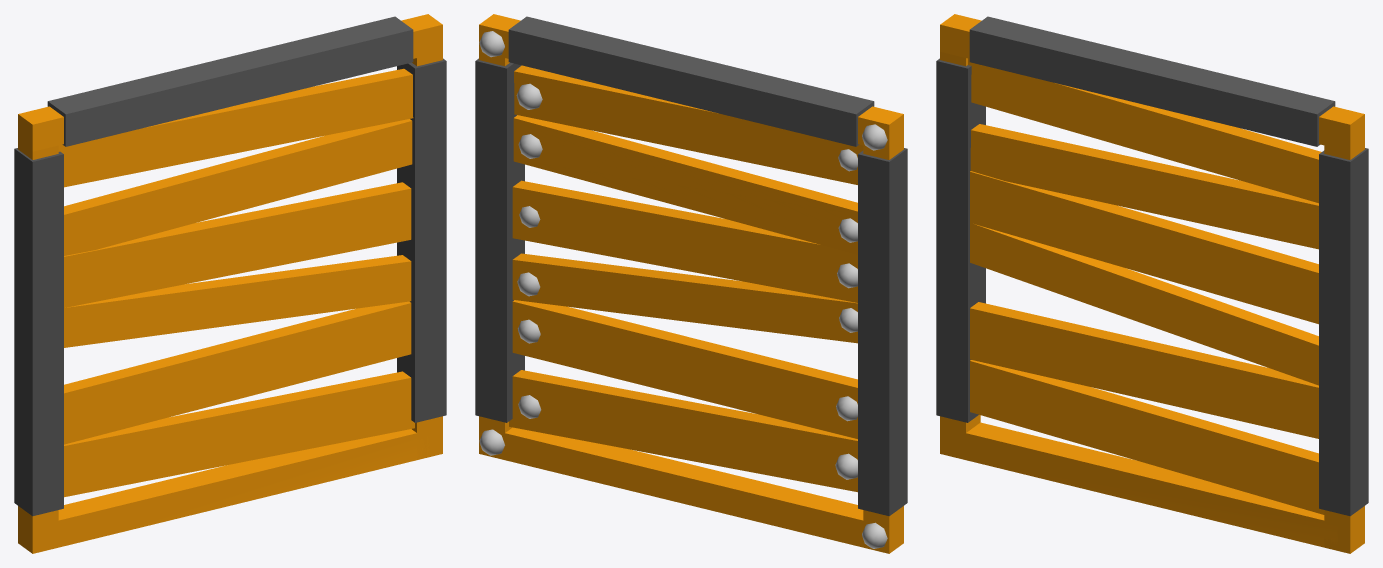
File: Wood_barrier_5.fbx
3 renders of one model, left to right at view 1: azimuth 30°, elevation 25°; view 2: azimuth 150°, elevation 25°; view 3: azimuth 330°, elevation 25°, orthographic.
Visible parts, largest first — view 1: Wood_barrier_5; view 2: Wood_barrier_5; view 3: Wood_barrier_5.
Boxes of the visible parts, left/top/right/bottom form: Wood_barrier_5: left=14, top=14, right=446, bottom=553; Wood_barrier_5: left=475, top=14, right=907, bottom=553; Wood_barrier_5: left=936, top=14, right=1368, bottom=553.
Bounding box in the file's own units: 3.23 × 3.23 × 0.3078.
1 material, 1 textured.
